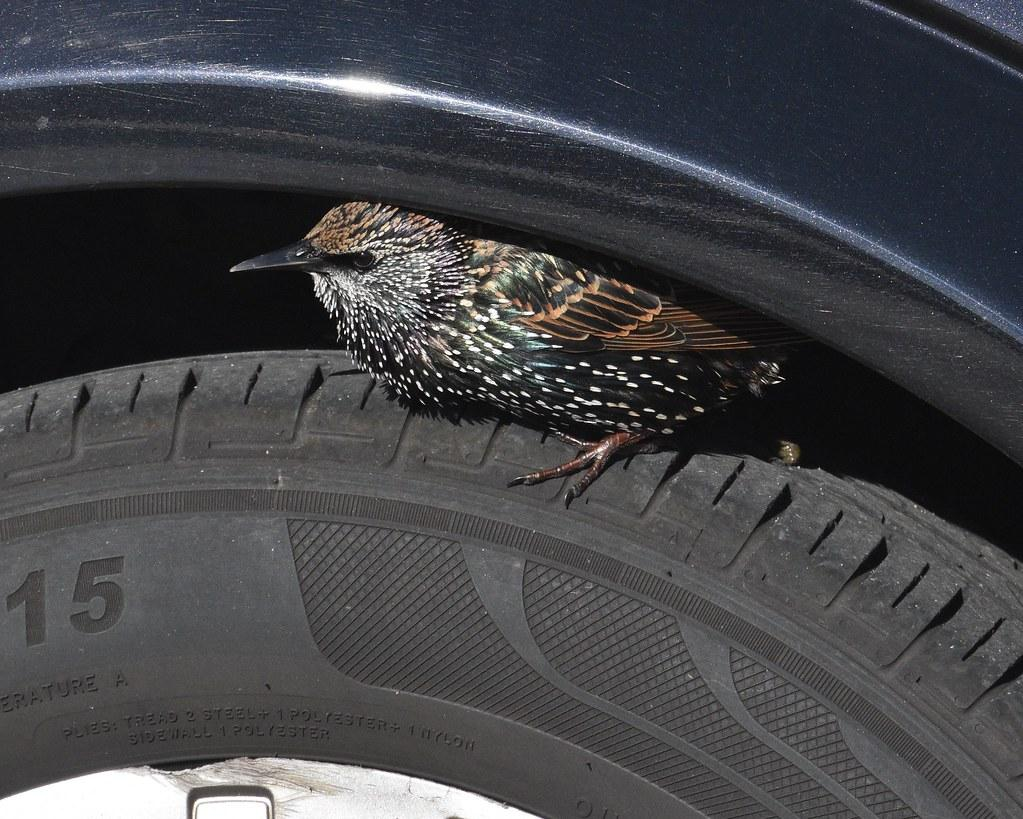car: (2, 1, 1022, 818)
